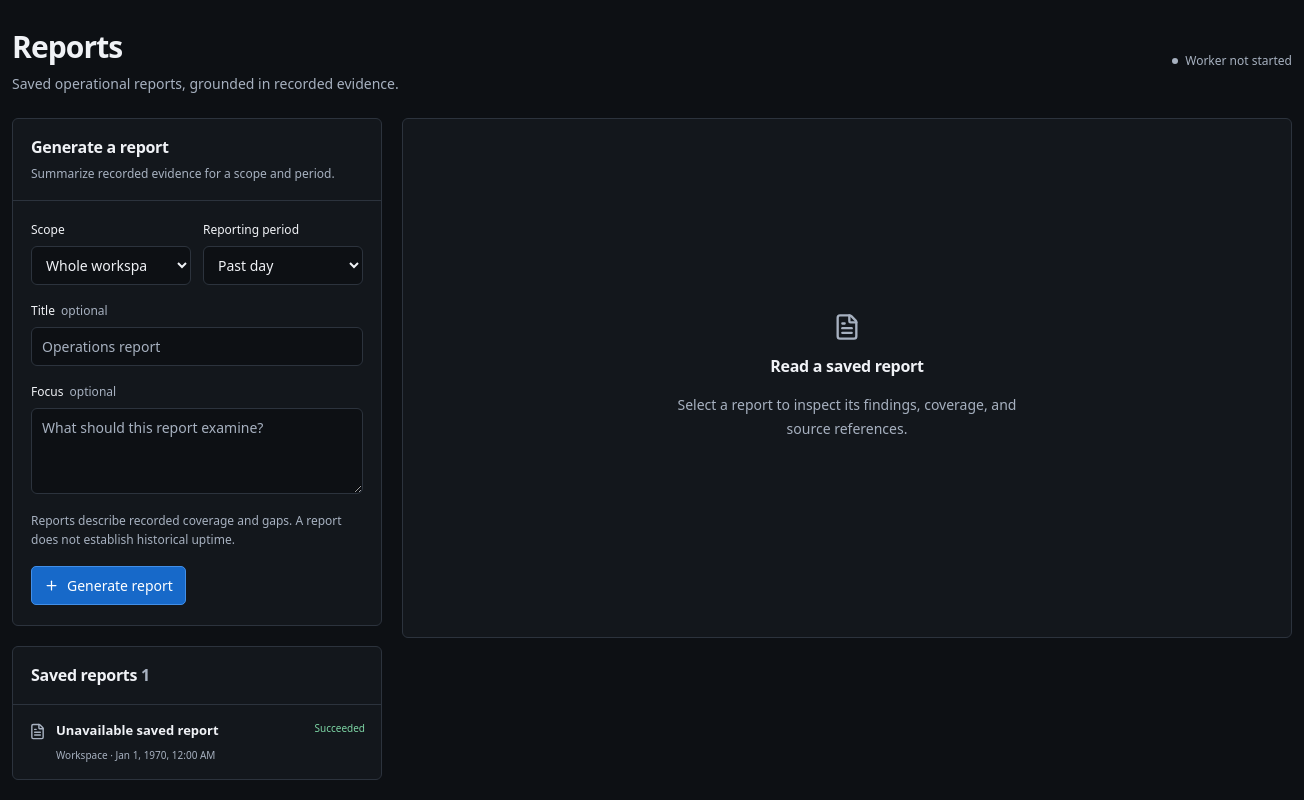
Scenario: persistent Studio interfaces › keeps failed report reads unavailable and retries without claiming an empty report
Click the button "Unavailable saved report". click: (197, 742)
box: [13,705,381,779]
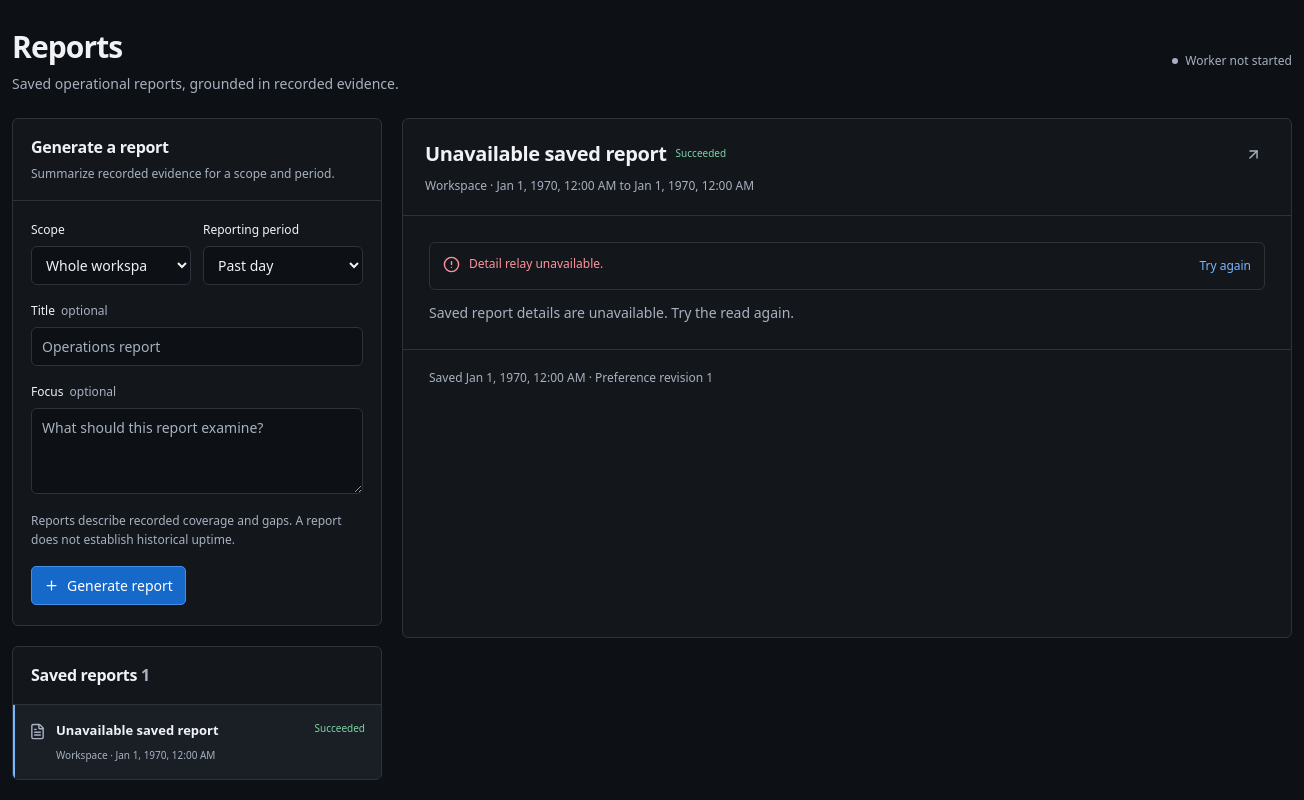
Expected: the text "Detail relay unavailable." is shown, [469,255,603,272]
Expected: the heading "Unavailable saved report" is shown, [425,138,667,168]
Click the button "Try again". click: (1225, 266)
box: [1199,254,1251,278]
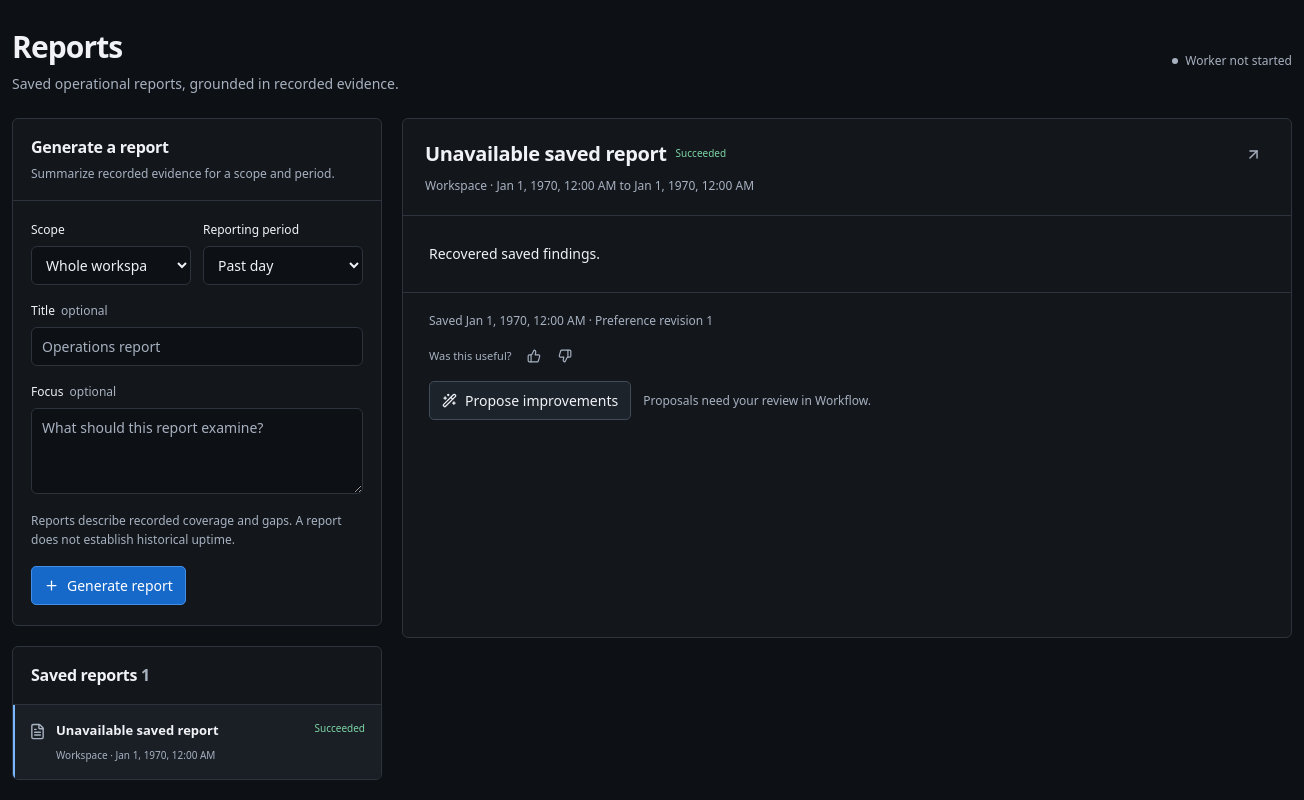
Expected: the text "Recovered saved findings." is shown, [429,244,600,263]
